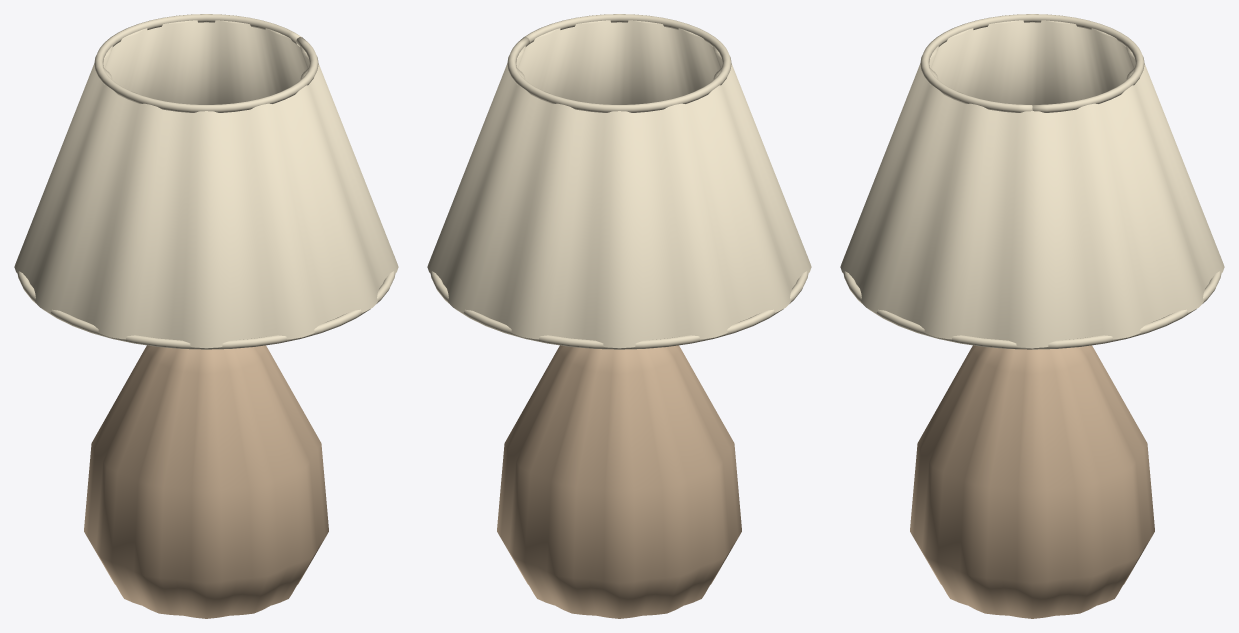
The model's file is bedside_lamp.glb.
3 renders of one model, left to right at view 1: azimuth 30°, elevation 25°; view 2: azimuth 150°, elevation 25°; view 3: azimuth 270°, elevation 25°, orthographic.
Visible parts, largest first — view 1: bedside_lamp__accent, bedside_lamp__body; view 2: bedside_lamp__accent, bedside_lamp__body; view 3: bedside_lamp__accent, bedside_lamp__body.
Part boxes in pixels (x1=…): bedside_lamp__accent: x1=14, y1=14, x2=398, y2=349; bedside_lamp__body: x1=84, y1=345, x2=328, y2=618; bedside_lamp__accent: x1=427, y1=14, x2=811, y2=349; bedside_lamp__body: x1=497, y1=345, x2=741, y2=618; bedside_lamp__accent: x1=840, y1=14, x2=1224, y2=349; bedside_lamp__body: x1=910, y1=345, x2=1154, y2=618.
Size of the model in its own units: 0.257 by 0.383 by 0.257.
